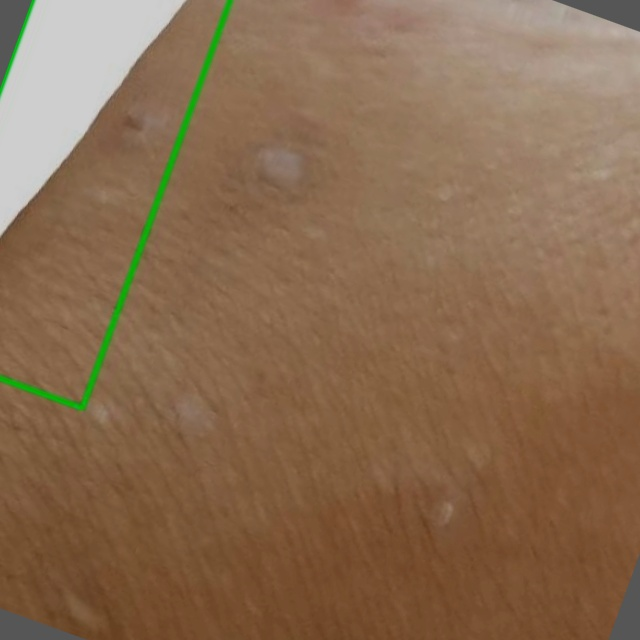Scabies: (0, 0, 230, 408)
